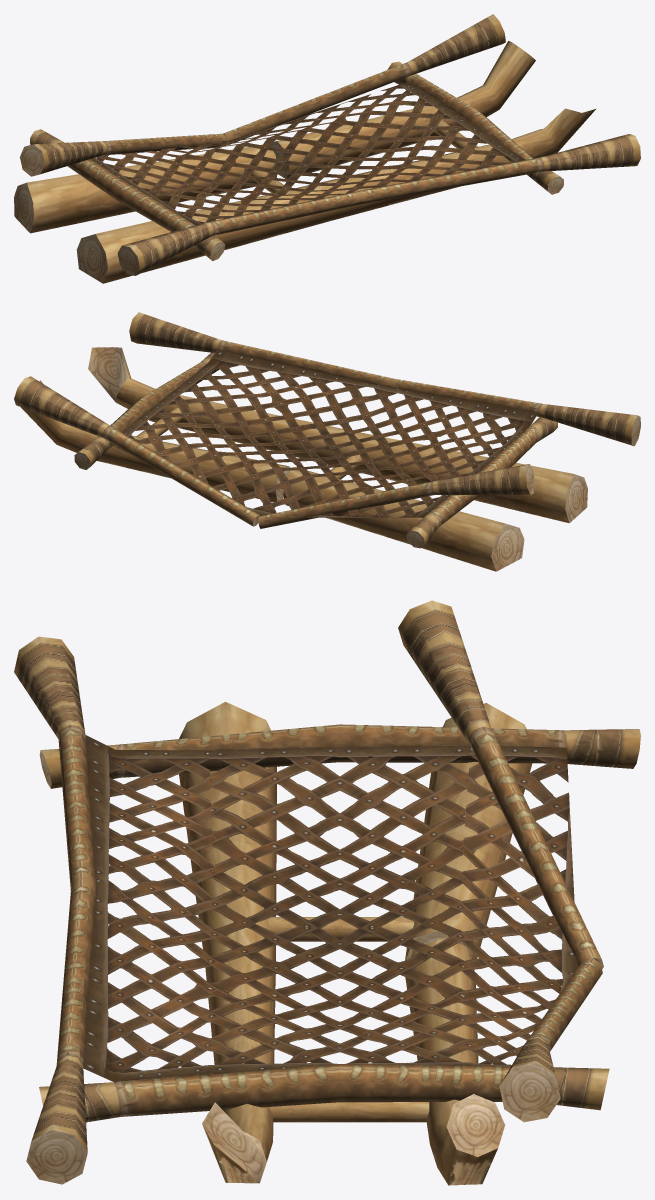
Rendered from wt_sled_02_wreckeda.obj.
3 renders of one model, top to bottom at view 1: azimuth 30°, elevation 25°; view 2: azimuth 150°, elevation 25°; view 3: azimuth 270°, elevation 25°, orthographic. The views are drawn at different scales.
Visible parts, largest first — view 1: wt_sled_02_wreckeda; view 2: wt_sled_02_wreckeda; view 3: wt_sled_02_wreckeda.
Part boxes in pixels (x1=…): wt_sled_02_wreckeda: x1=14, y1=14, x2=640, y2=283; wt_sled_02_wreckeda: x1=14, y1=312, x2=640, y2=571; wt_sled_02_wreckeda: x1=14, y1=600, x2=640, y2=1185.
Size of the model in its own units: 7.05 by 1.19 by 3.92.
1 material, 1 textured.
